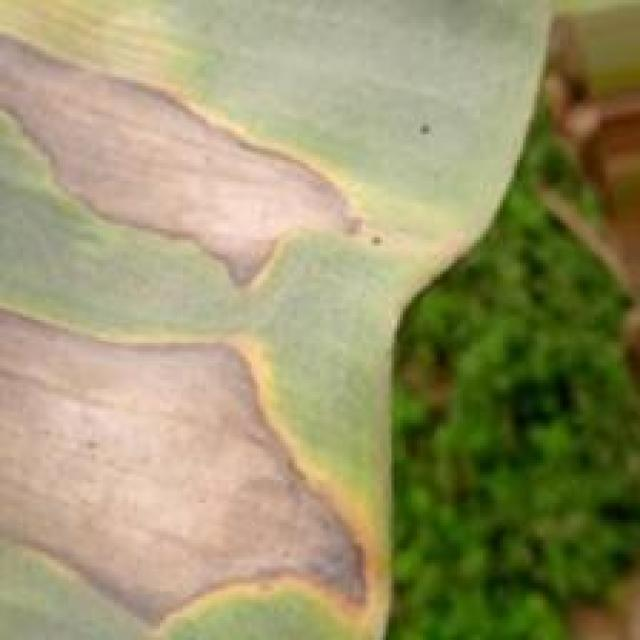Bacterial_spot: (0, 308, 374, 610), (0, 16, 392, 293)
